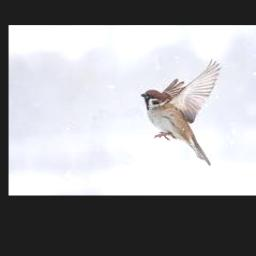Sparrow: (141, 59, 223, 166)
